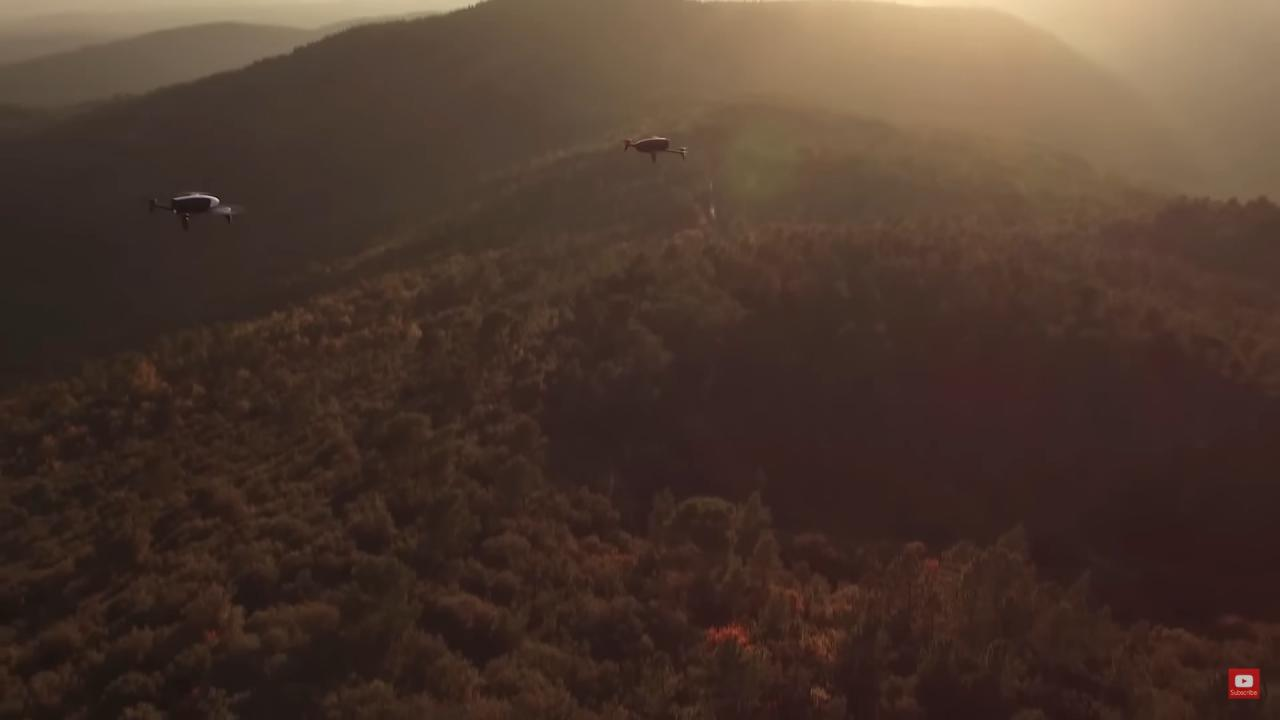Drone: (136, 187, 242, 236), (610, 130, 693, 172)
